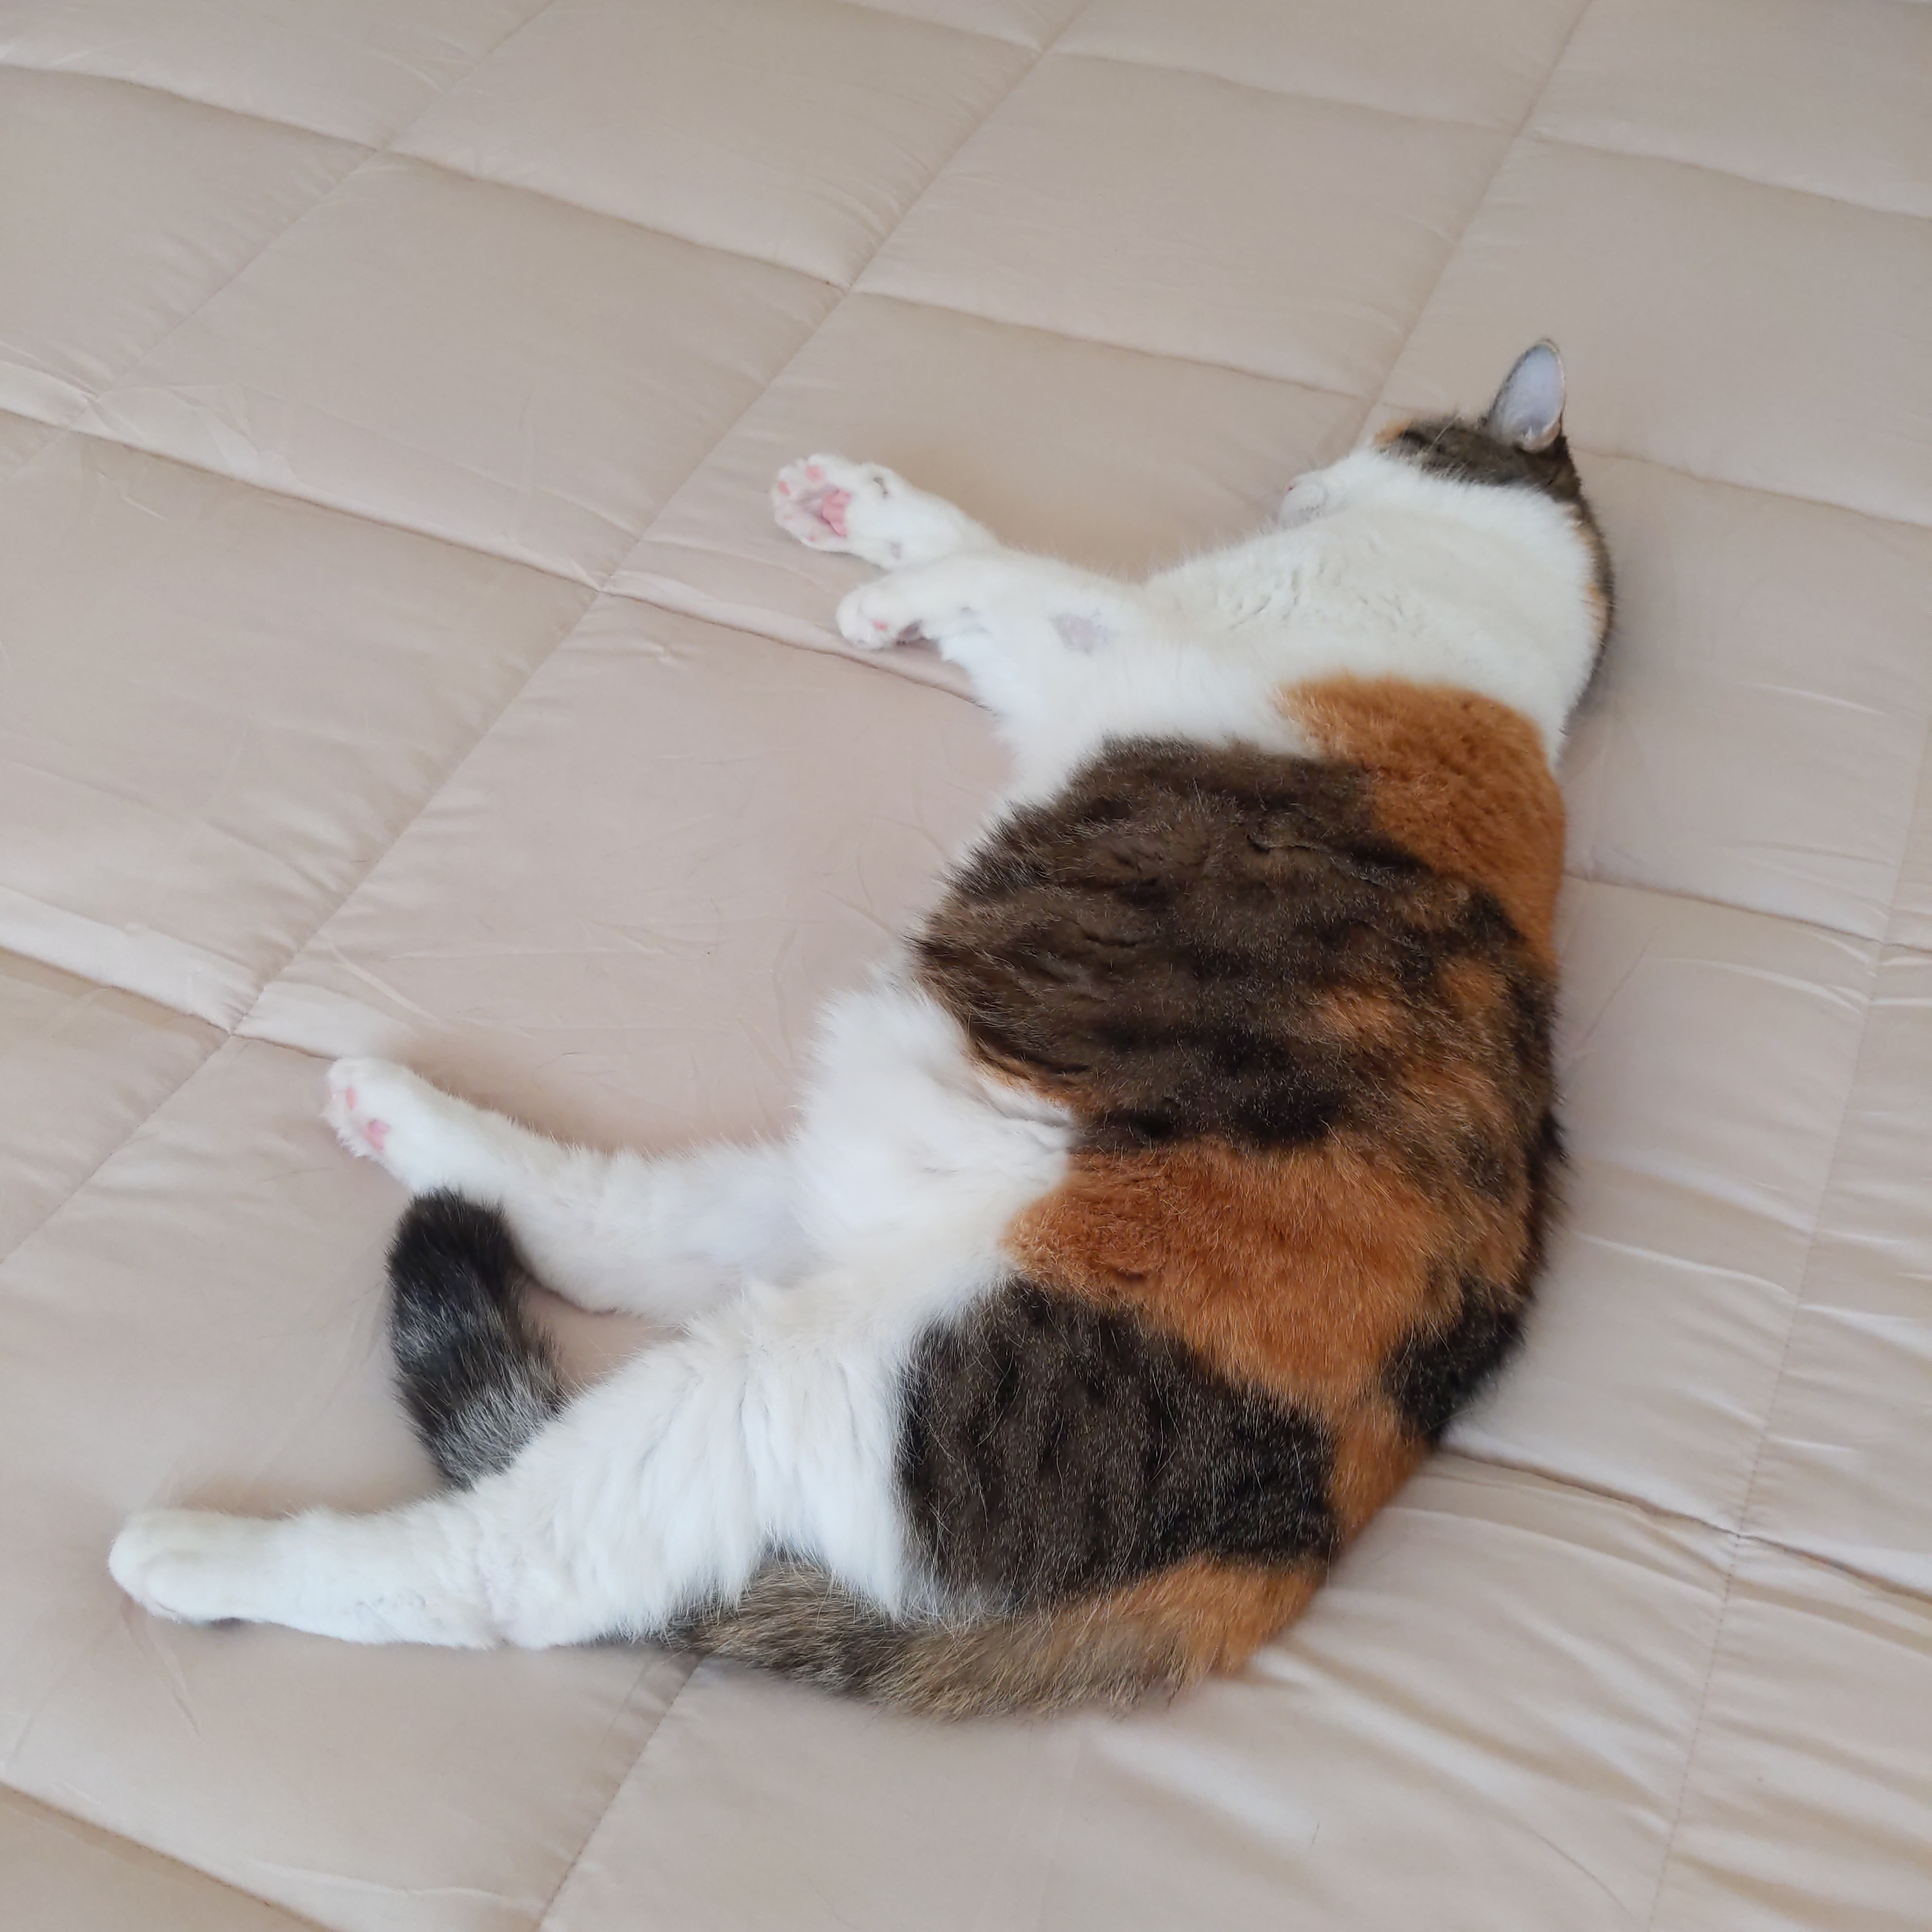Calico: (108, 334, 1617, 1718)
